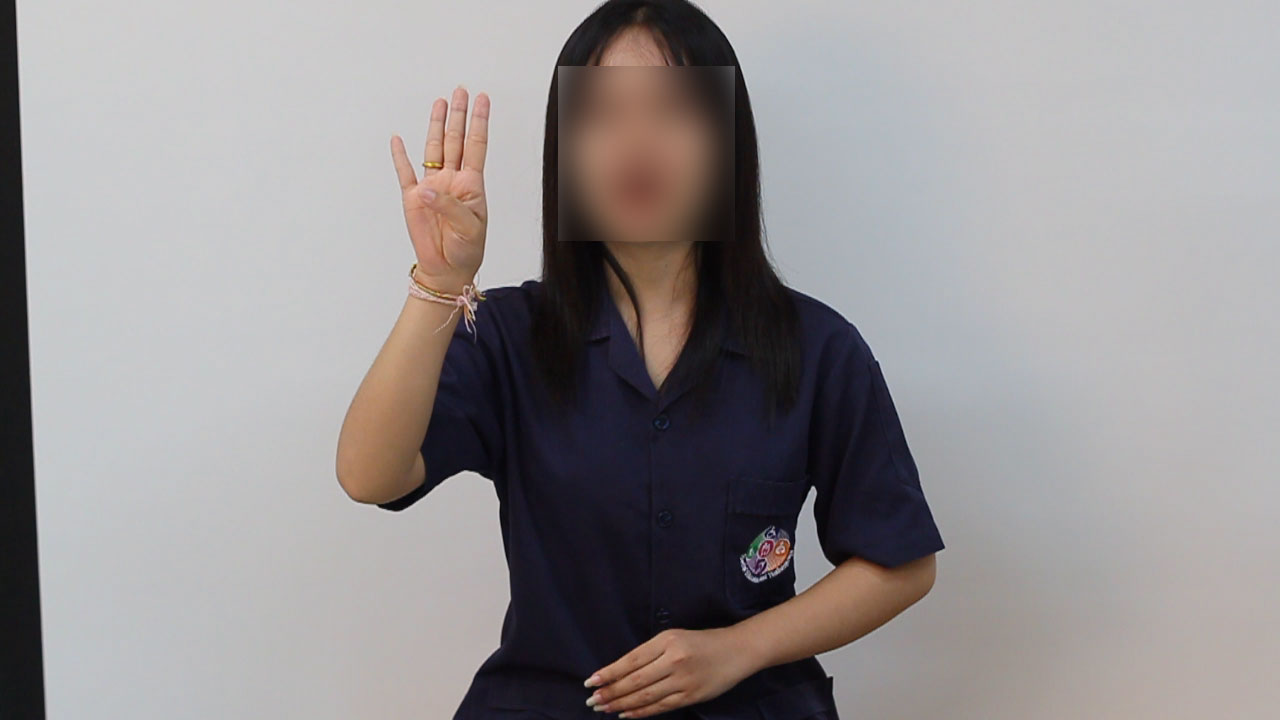bor: (370, 63, 509, 321)
